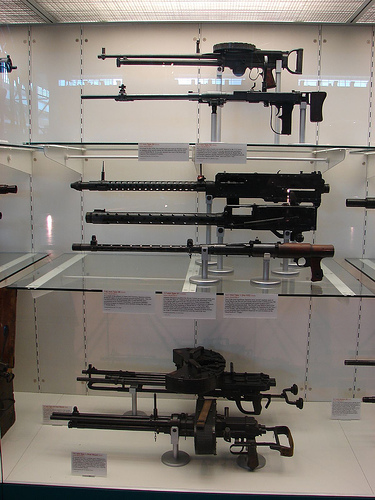rifle: (55, 407, 300, 468), (56, 355, 306, 405), (66, 227, 327, 269), (67, 192, 328, 234), (67, 160, 328, 202), (68, 81, 329, 123), (70, 45, 331, 87)
